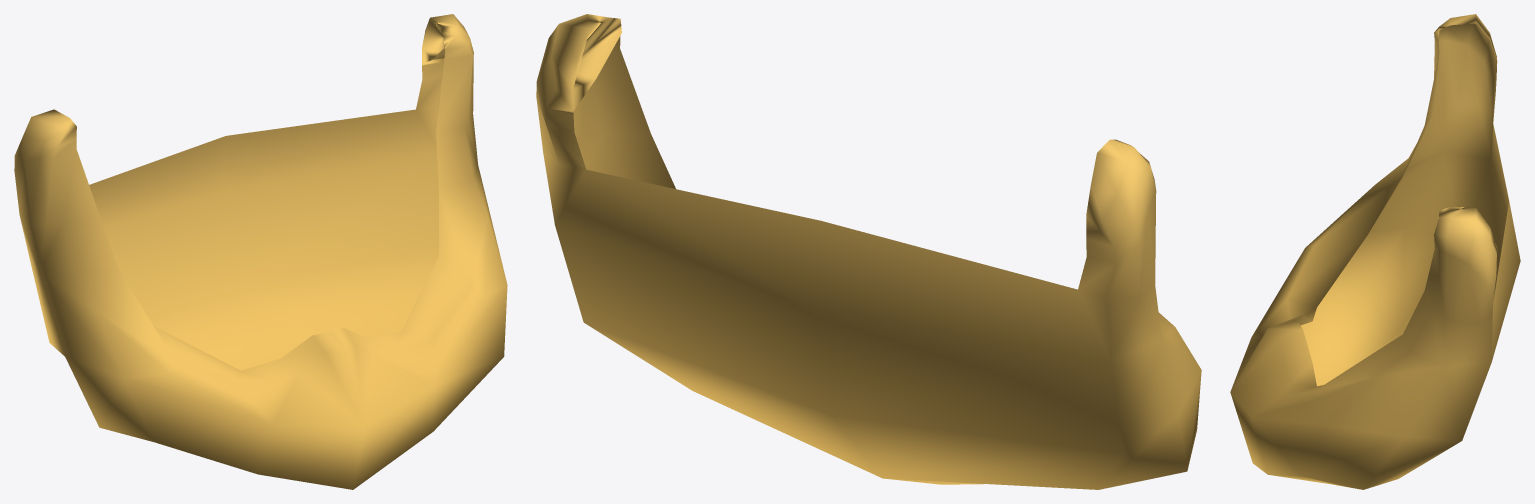
The model's file is Beard_Yellow_10.fbx.
The picture shows the model from 3 angles, left to right: view 1: azimuth 30°, elevation 25°; view 2: azimuth 150°, elevation 25°; view 3: azimuth 270°, elevation 25°; orthographic projection. The views are drawn at different scales.
Visible parts, largest first — view 1: Beard_Yellow_10; view 2: Beard_Yellow_10; view 3: Beard_Yellow_10.
Part boxes in pixels (box(x1,y1,x2,y2)): Beard_Yellow_10: box(14, 14, 507, 489); Beard_Yellow_10: box(536, 14, 1201, 489); Beard_Yellow_10: box(1230, 14, 1520, 489).
Size of the model in its own units: 52.51 by 38.74 by 29.34.
